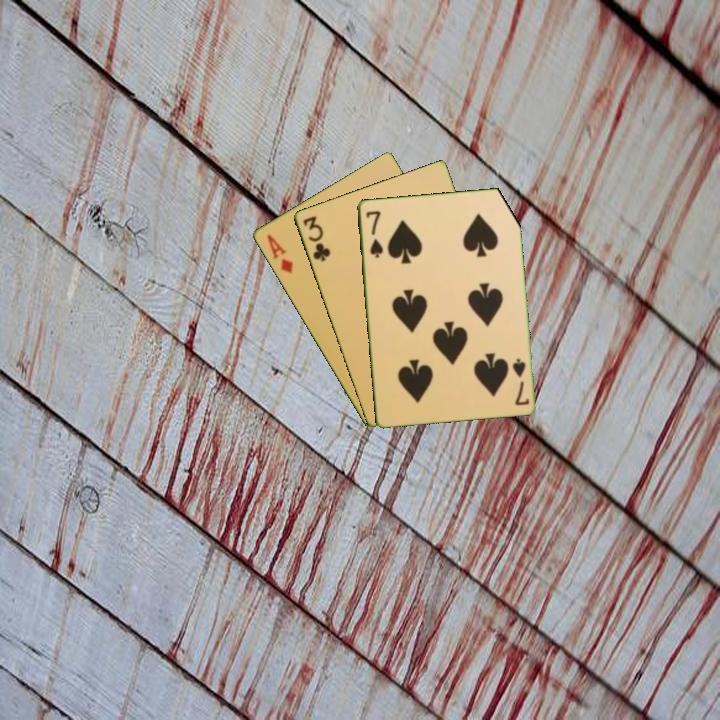3c: (299, 212, 333, 264)
7s: (362, 207, 385, 260), (509, 355, 532, 408)
Ad: (263, 231, 295, 277)
